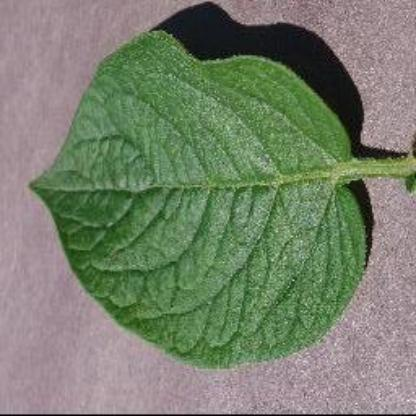Healthy-plant: (35, 23, 396, 392)
